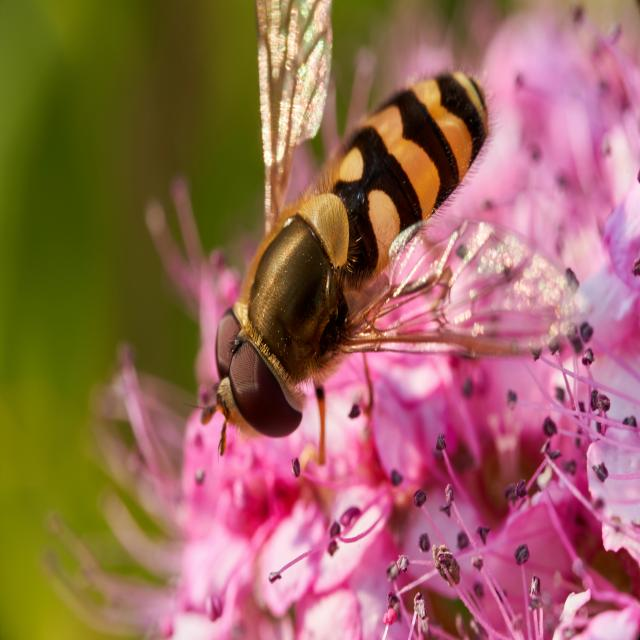hoverfly: (185, 0, 581, 470)
